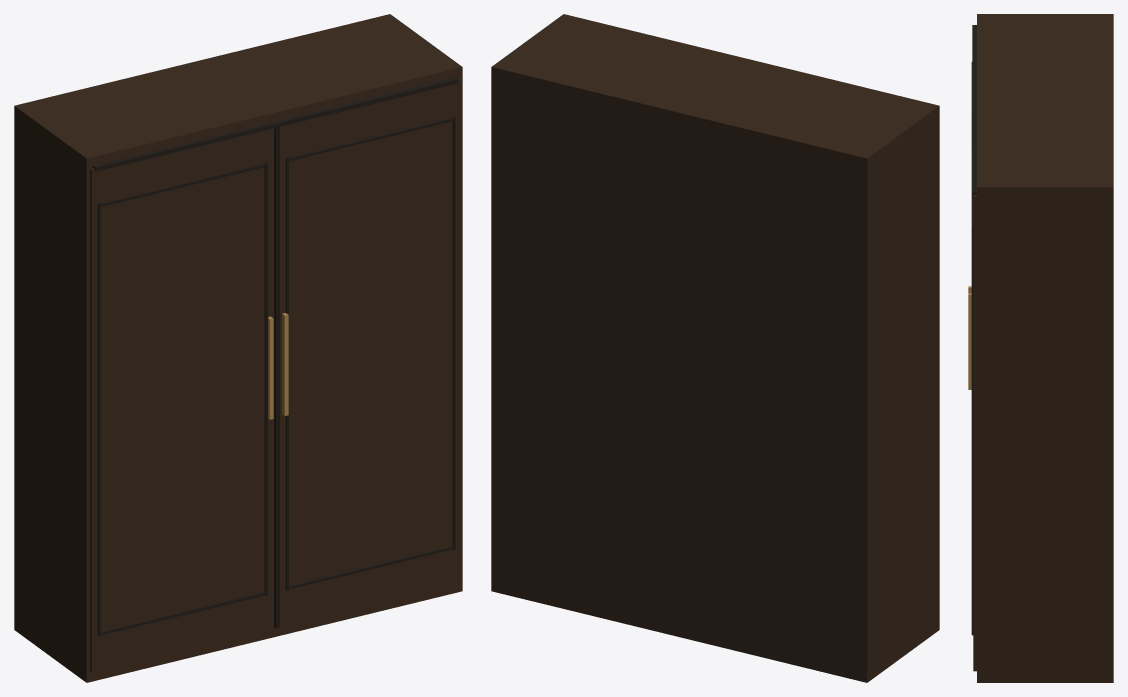
3 views of the same model, side by side, from view 1: azimuth 30°, elevation 25°; view 2: azimuth 150°, elevation 25°; view 3: azimuth 270°, elevation 25° (orthographic). The views are drawn at different scales.
Parts seen in each view (by area): view 1: wardrobe; view 2: wardrobe; view 3: wardrobe.
Part boxes in pixels (x1,y1,x2,y2): wardrobe: (14, 14, 462, 682); wardrobe: (491, 14, 939, 682); wardrobe: (968, 14, 1113, 682).
Bounding box in the file's own units: 1.8 × 2.4 × 0.6375.
